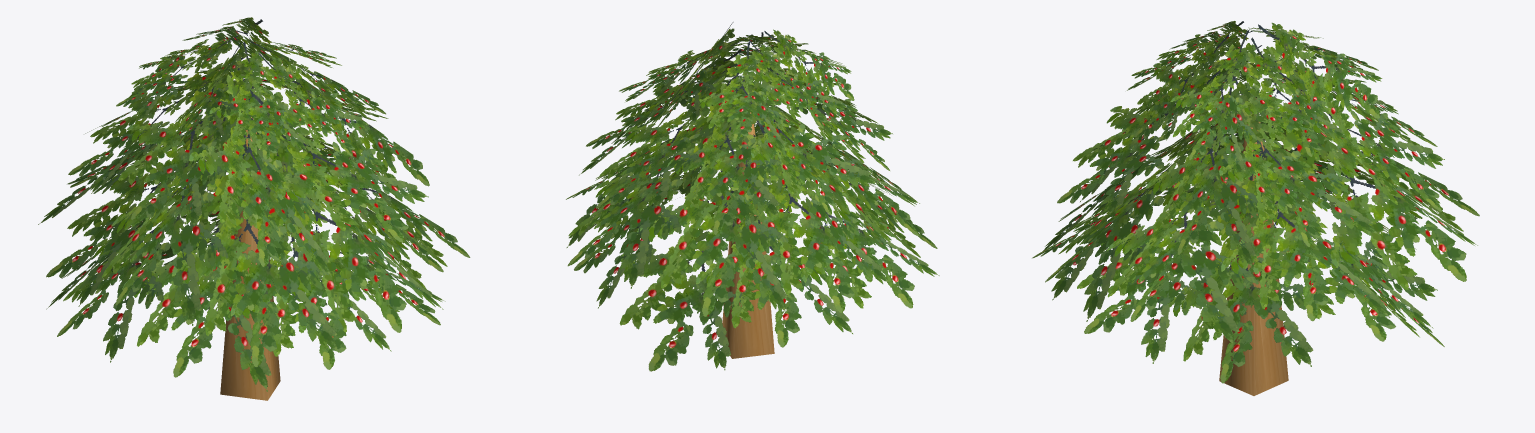
File: CespuglioBacche4.glb
3 renders of one model, left to right at view 1: azimuth 30°, elevation 25°; view 2: azimuth 150°, elevation 25°; view 3: azimuth 270°, elevation 25°, orthographic. The views are drawn at different scales.
Visible parts, largest first — view 1: CespuglioBacche_04; view 2: CespuglioBacche_04; view 3: CespuglioBacche_04.
Boxes of the visible parts, x1,y1,x2,y2 form: CespuglioBacche_04: (38, 17, 470, 400); CespuglioBacche_04: (566, 22, 939, 371); CespuglioBacche_04: (1032, 21, 1479, 395).
Bounding box in the file's own units: 3.22 × 2.61 × 3.35.
1 material, 1 textured.
